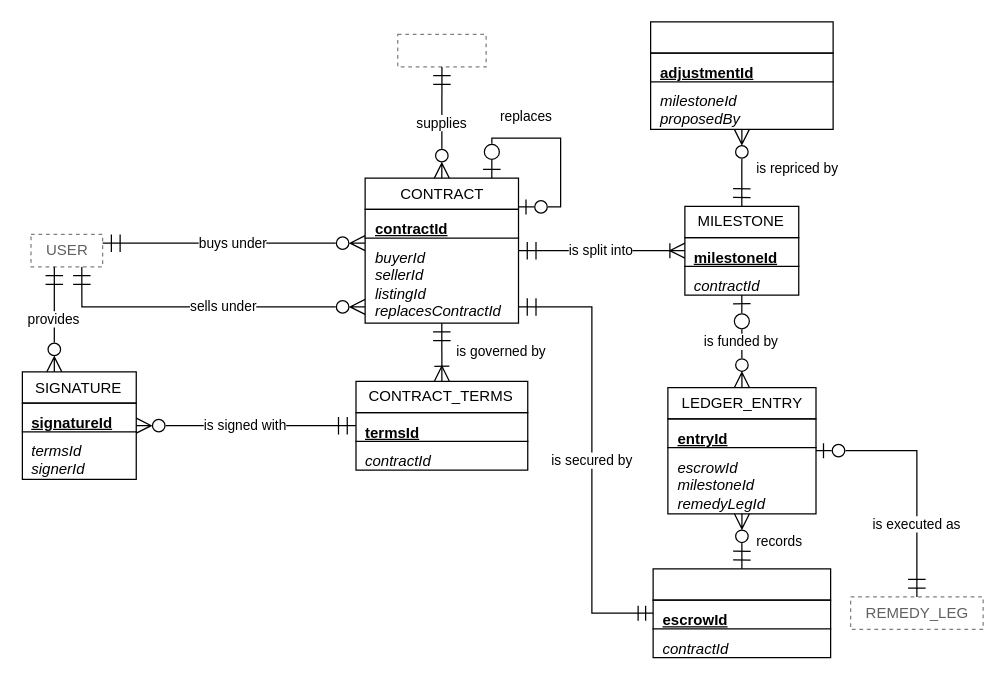
The diagram is 1005 pixels wide and 680 high, and some of its shapes have lost their labels. The shapes that lost their labels are listed below. From the top down, each one's box as (x1, y1, x2, y2) in pixels, then its label:
(396, 33, 486, 67): LISTING
(649, 21, 833, 129): PRICE_ADJUSTMENT
(652, 568, 831, 658): ESCROW_ACCOUNT
